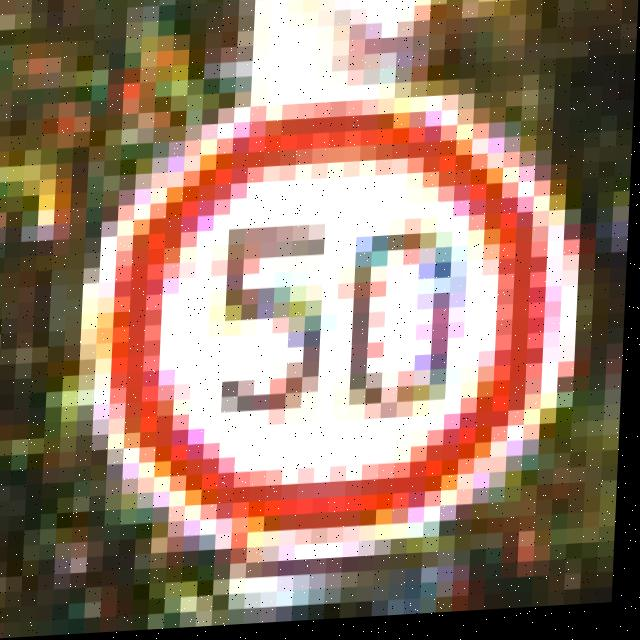speed_limit_50: (33, 89, 594, 539)
